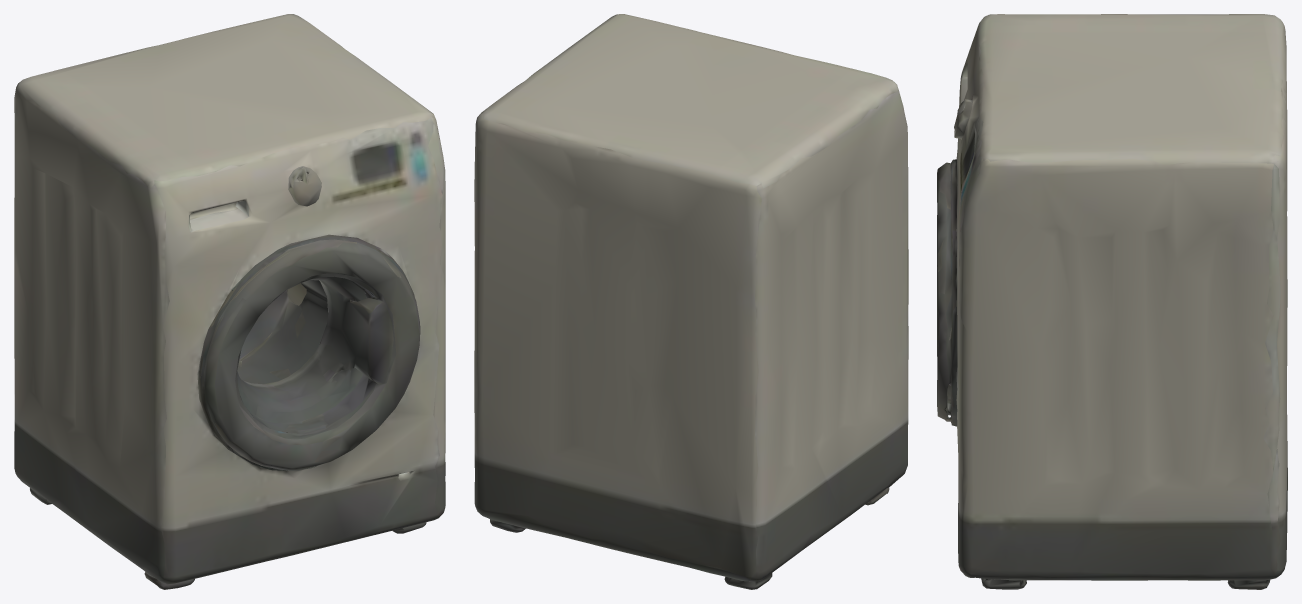
Rendered from washing_machine.glb.
3 views of the same model, side by side, from view 1: azimuth 30°, elevation 25°; view 2: azimuth 150°, elevation 25°; view 3: azimuth 270°, elevation 25° (orthographic). The views are drawn at different scales.
Parts seen in each view (by area): view 1: geometry_0; view 2: geometry_0; view 3: geometry_0.
Part boxes in pixels (x1,y1,x2,y2): geometry_0: (14, 14, 445, 589); geometry_0: (474, 14, 908, 589); geometry_0: (937, 14, 1287, 589).
Bounding box in the file's own units: 0.7325 × 1 × 0.7254.
Materials: 1 (1 with a texture image).
